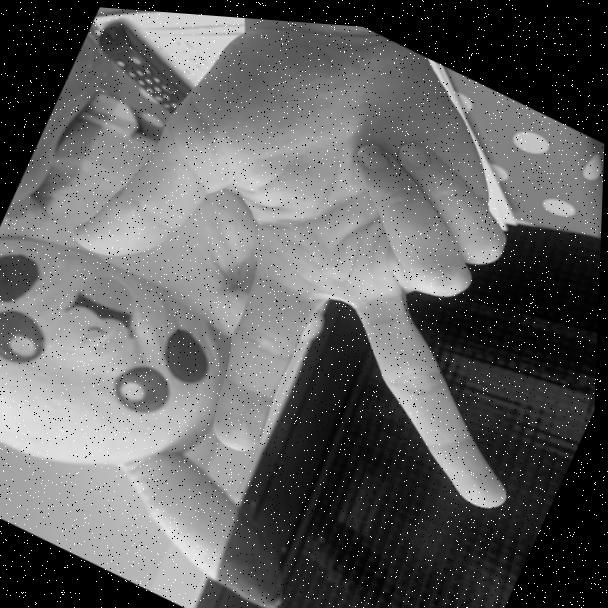three: (21, 2, 608, 563)
